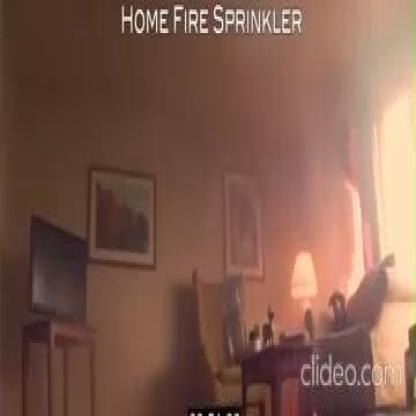fire: (335, 128, 366, 302)
